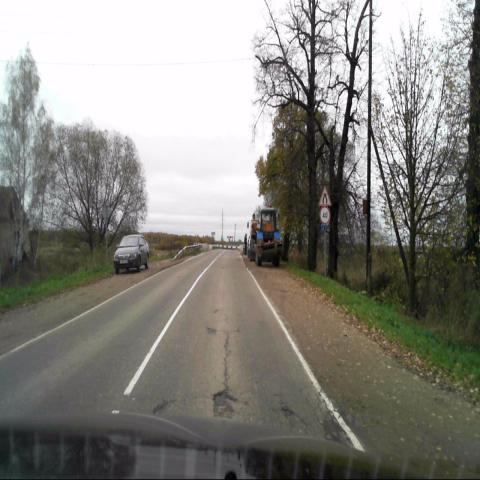1_20: (319, 186, 331, 207)
